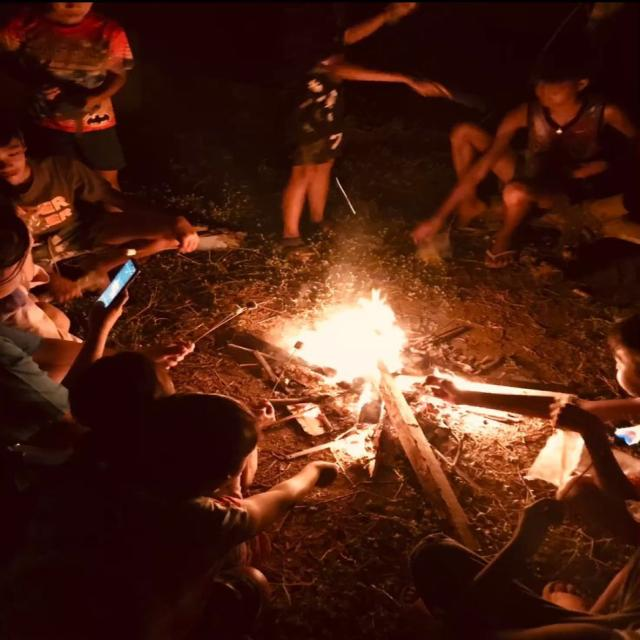fire: (283, 287, 406, 400)
